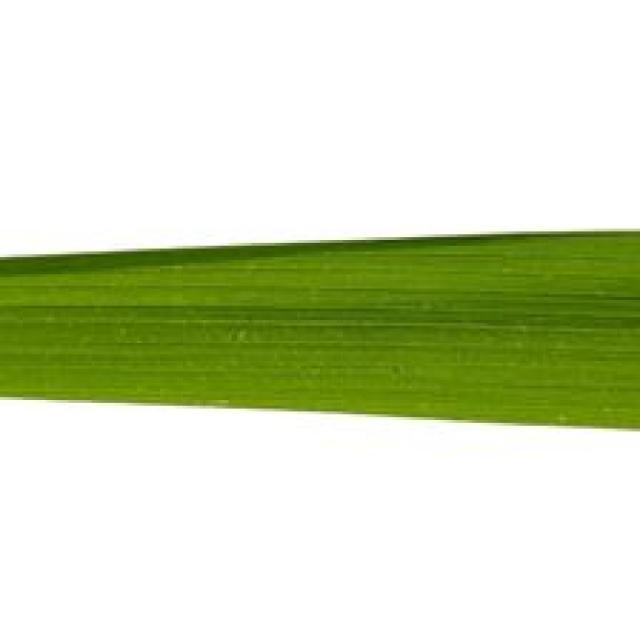Rice___Healthy_Rice_Plant: (2, 232, 637, 430)
